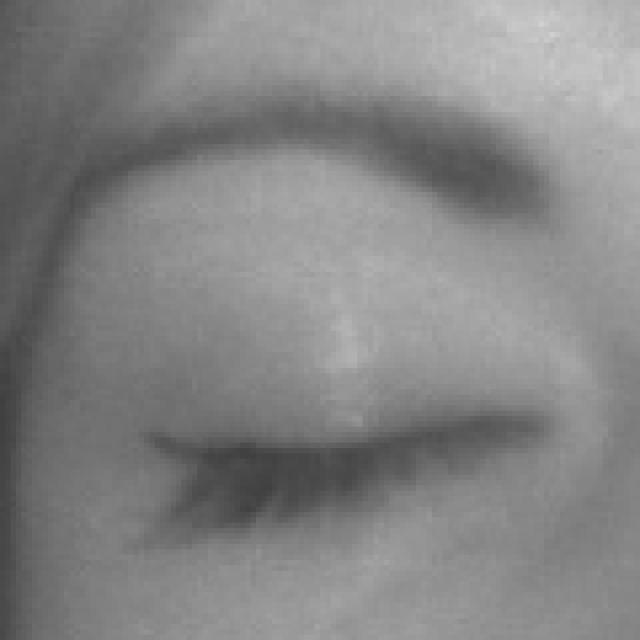Eyeclosed: (138, 265, 547, 640)
